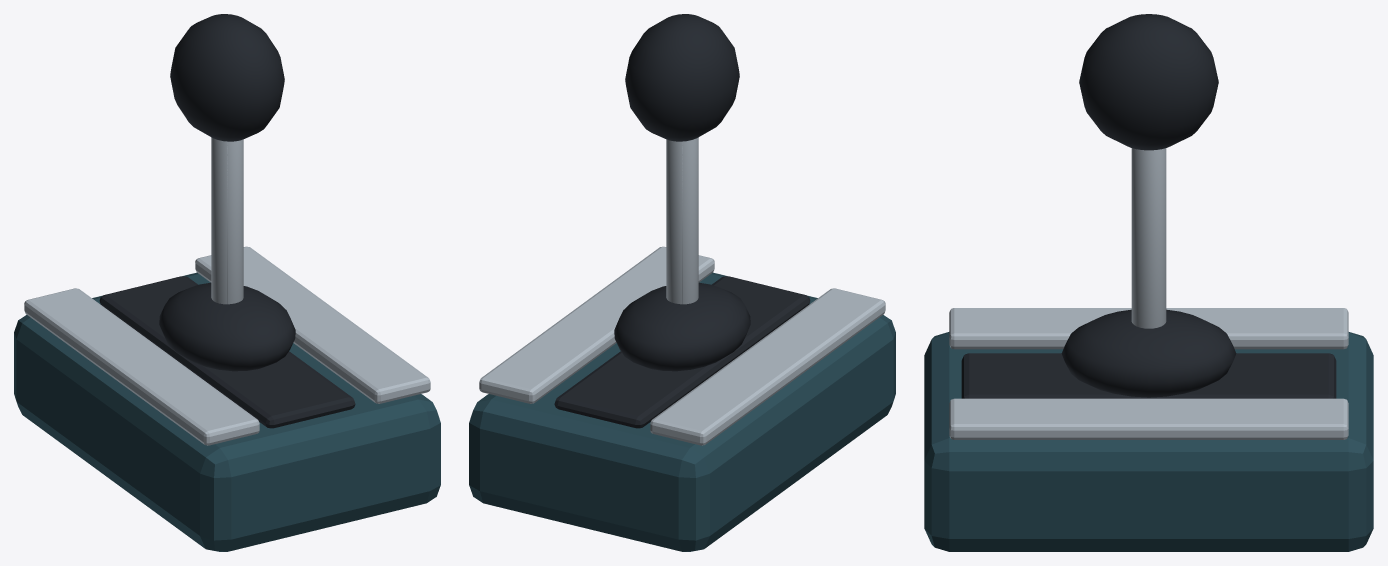
Rendered from shifter-sequential.glb.
3 views of the same model, side by side, from view 1: azimuth 30°, elevation 25°; view 2: azimuth 150°, elevation 25°; view 3: azimuth 270°, elevation 25° (orthographic). The views are drawn at different scales.
Parts seen in each view (by area): view 1: shell, rail, knob, slot, rail.001, boot, stem; view 2: shell, rail, knob, slot, rail.001, boot, stem; view 3: shell, rail.001, knob, boot, rail, slot, stem.
Part boxes in pixels (left/top/right/bottom): shell: left=14, top=272, right=440, bottom=551; rail: left=24, top=288, right=259, bottom=445; knob: left=170, top=14, right=284, bottom=141; slot: left=99, top=276, right=355, bottom=428; rail.001: left=195, top=246, right=430, bottom=403; boot: left=159, top=282, right=295, bottom=371; stem: left=211, top=137, right=243, bottom=304; shell: left=469, top=272, right=895, bottom=551; rail: left=650, top=288, right=885, bottom=445; knob: left=625, top=14, right=739, bottom=141; slot: left=554, top=276, right=810, bottom=428; rail.001: left=479, top=246, right=714, bottom=403; boot: left=614, top=282, right=750, bottom=371; stem: left=666, top=137, right=698, bottom=304; shell: left=924, top=332, right=1373, bottom=551; rail.001: left=949, top=398, right=1348, bottom=439; knob: left=1079, top=14, right=1218, bottom=150; boot: left=1061, top=309, right=1236, bottom=397; rail: left=949, top=308, right=1348, bottom=349; slot: left=961, top=353, right=1336, bottom=398; stem: left=1131, top=148, right=1166, bottom=328.
Size of the model in its own units: 0.12 by 0.212 by 0.18.
